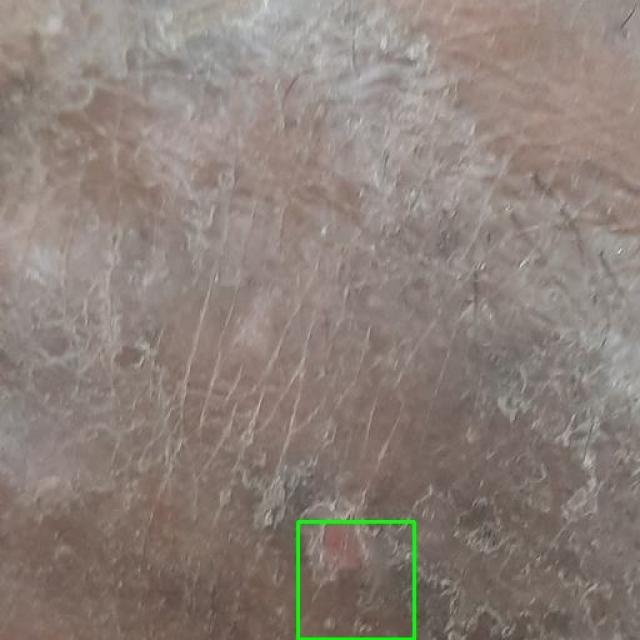Eczema: (298, 521, 414, 639)
